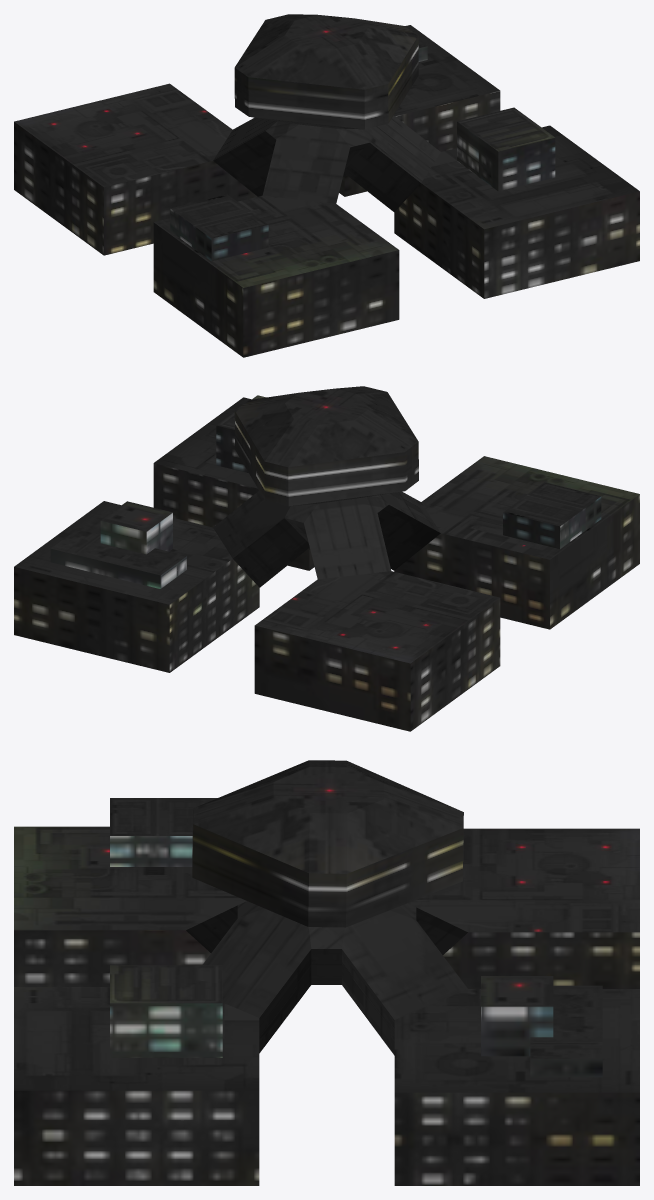
File: scifi_building_38.obj
3 renders of one model, top to bottom at view 1: azimuth 30°, elevation 25°; view 2: azimuth 150°, elevation 25°; view 3: azimuth 270°, elevation 25°, orthographic. The views are drawn at different scales.
Visible parts, largest first — view 1: building_38; view 2: building_38; view 3: building_38.
Part boxes in pixels (bbox=[...]): building_38: bbox=[14, 14, 639, 357]; building_38: bbox=[14, 386, 639, 731]; building_38: bbox=[14, 760, 639, 1185].
Bounding box in the file's own units: 97.72 × 45.58 × 97.95.
Materials: 1 (1 with a texture image).
